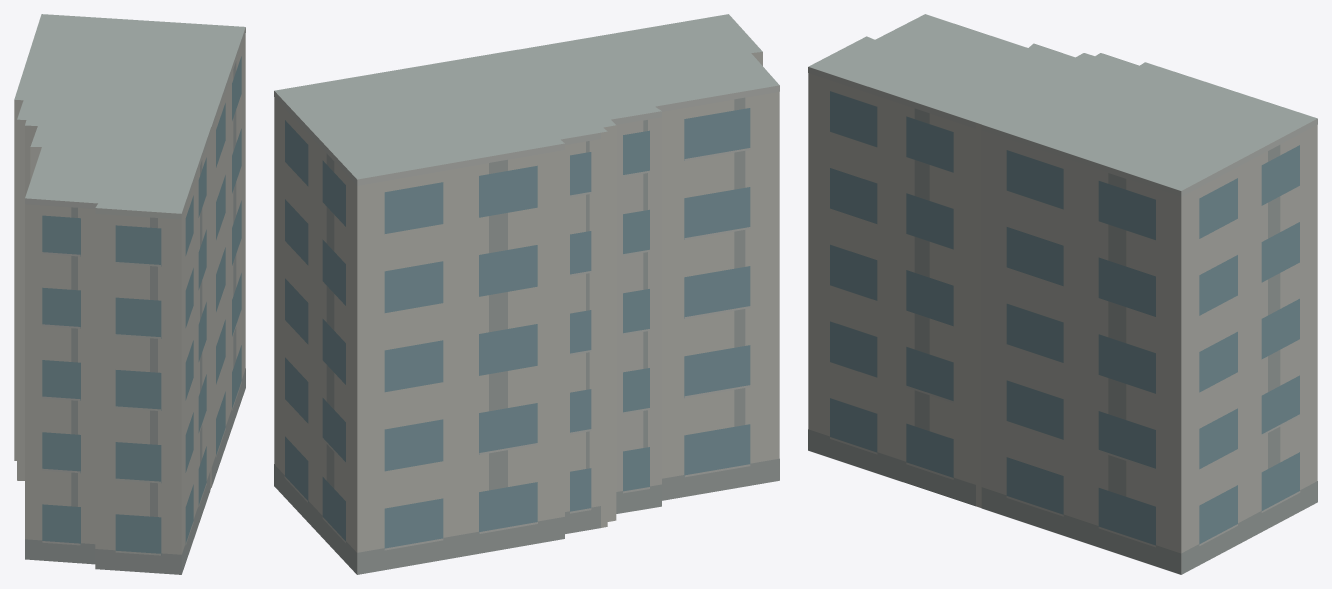
File: survey-upis-32583915.glb
3 views of the same model, side by side, from view 1: azimuth 30°, elevation 25°; view 2: azimuth 150°, elevation 25°; view 3: azimuth 270°, elevation 25° (orthographic). The views are drawn at different scales.
Visible parts, largest first — view 1: survey-upis-32583915.tmp; view 2: survey-upis-32583915.tmp; view 3: survey-upis-32583915.tmp.
Part boxes in pixels (<box>): survey-upis-32583915.tmp: <box>14,14,245,574</box>; survey-upis-32583915.tmp: <box>274,14,779,574</box>; survey-upis-32583915.tmp: <box>808,14,1317,574</box>.
Bounding box in the file's own units: 15.1 × 15.25 × 18.36.
